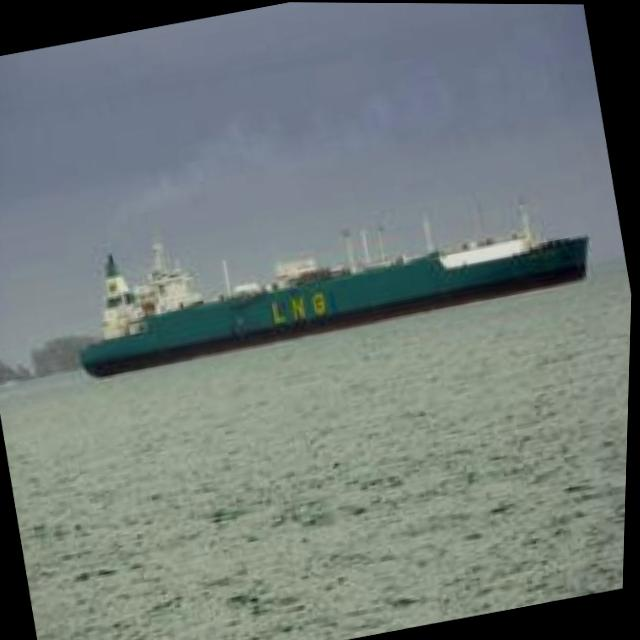ship2: (81, 196, 592, 378)
